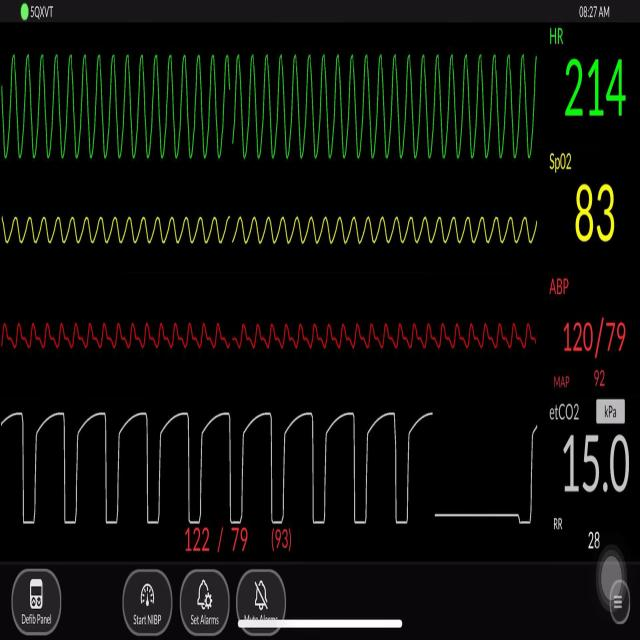danger: (9, 36, 538, 171)
